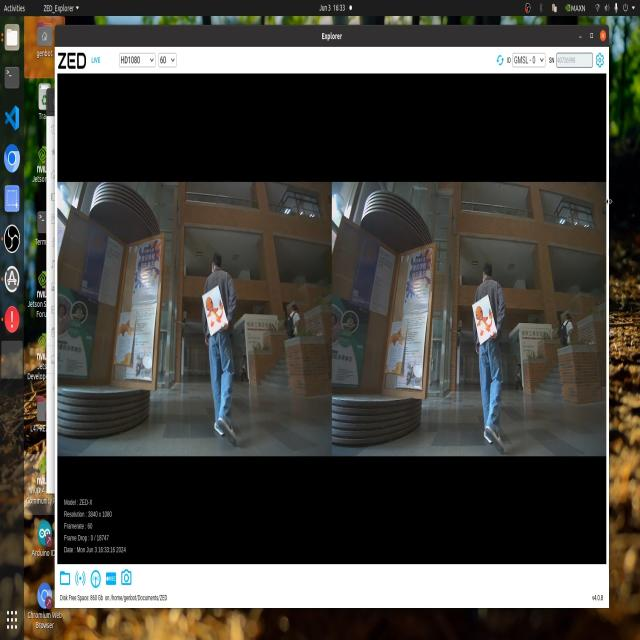red: (470, 298, 496, 342), (203, 292, 229, 327)
